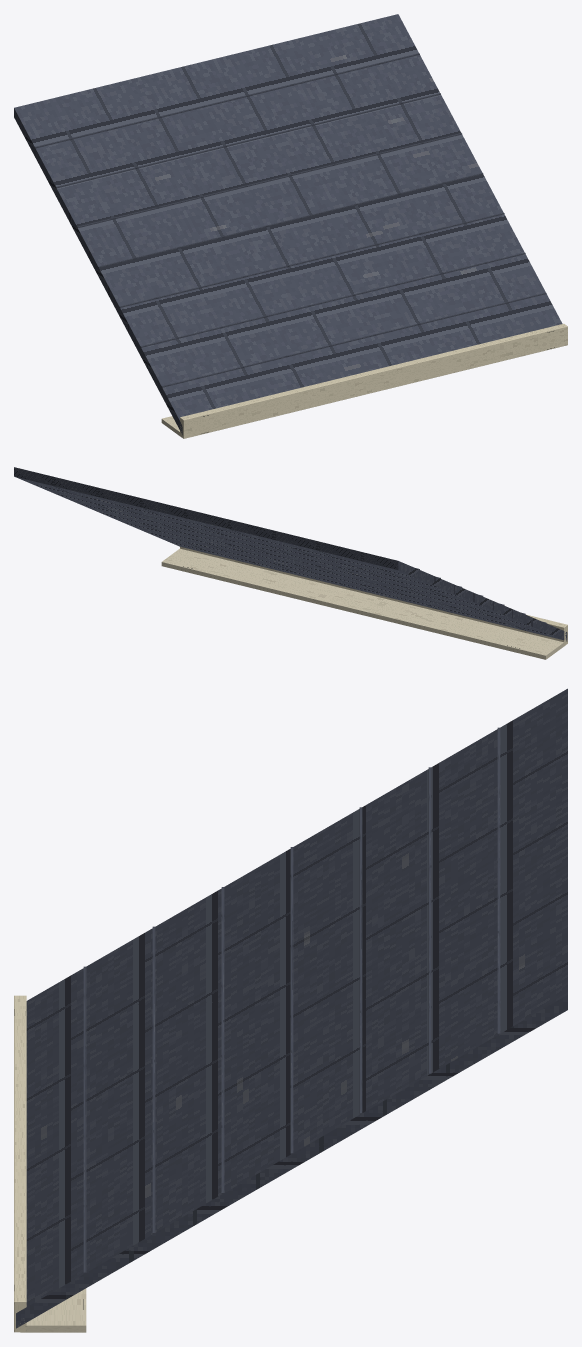
Rendered from house_roof_slope.glb.
3 views of the same model, one above another, from view 1: azimuth 30°, elevation 25°; view 2: azimuth 150°, elevation 25°; view 3: azimuth 270°, elevation 25° (orthographic). The views are drawn at different scales.
Parts seen in each view (by area): view 1: house_roof_slope; view 2: house_roof_slope; view 3: house_roof_slope.
Part boxes in pixels (bbox=[...]): house_roof_slope: bbox=[14, 14, 567, 438]; house_roof_slope: bbox=[14, 467, 567, 659]; house_roof_slope: bbox=[14, 688, 567, 1332].
Size of the model in its own units: 3.4 by 1.75 by 2.6.
3 materials, 3 textured.
